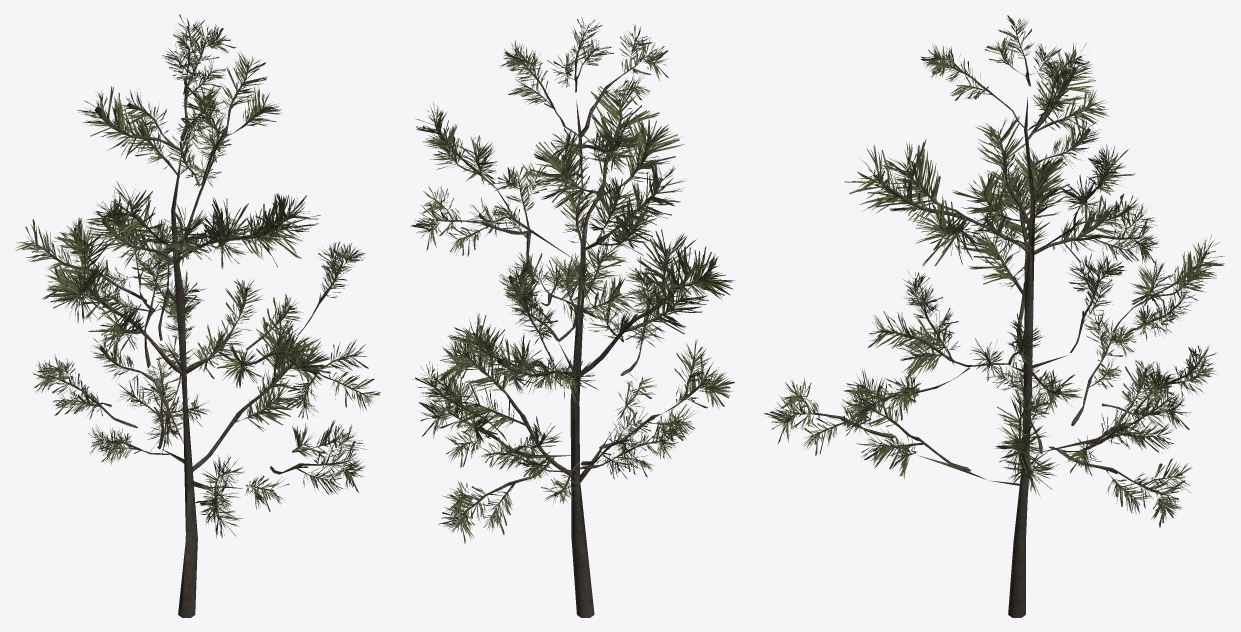
Rendered from pine_sapling_small-near.glb.
3 renders of one model, left to right at view 1: azimuth 30°, elevation 25°; view 2: azimuth 150°, elevation 25°; view 3: azimuth 270°, elevation 25°, orthographic. The views are drawn at different scales.
Visible parts, largest first — view 1: pine_sapling_small_b; view 2: pine_sapling_small_b; view 3: pine_sapling_small_b.
Boxes of the visible parts, <box> form: pine_sapling_small_b: <box>15,14,380,617</box>; pine_sapling_small_b: <box>410,16,734,617</box>; pine_sapling_small_b: <box>764,15,1224,617</box>.
Size of the model in its own units: 0.5288 by 1.05 by 0.7303.
2 materials, 2 textured.
